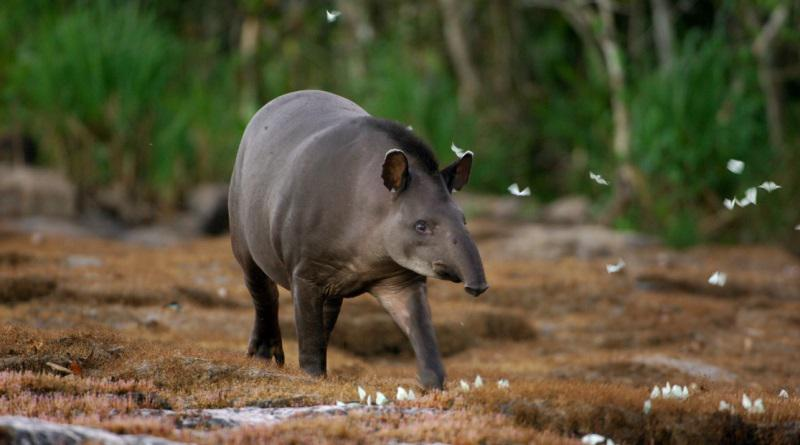Anta: (224, 75, 497, 406)
